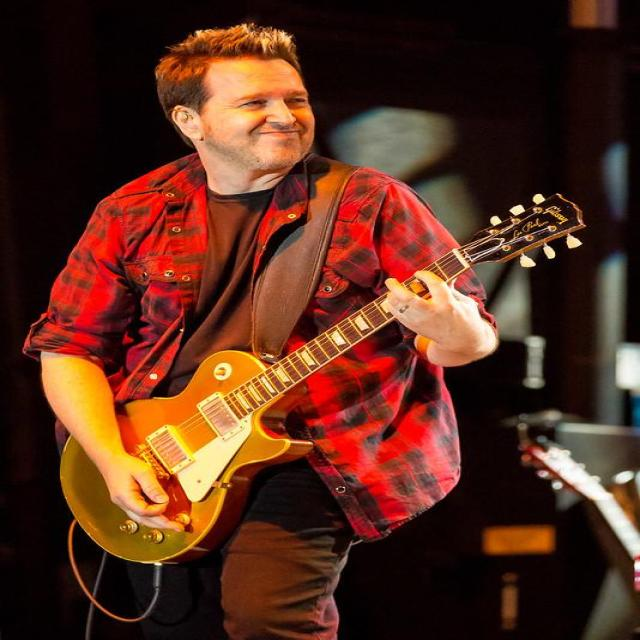guitar: (60, 296, 394, 562)
